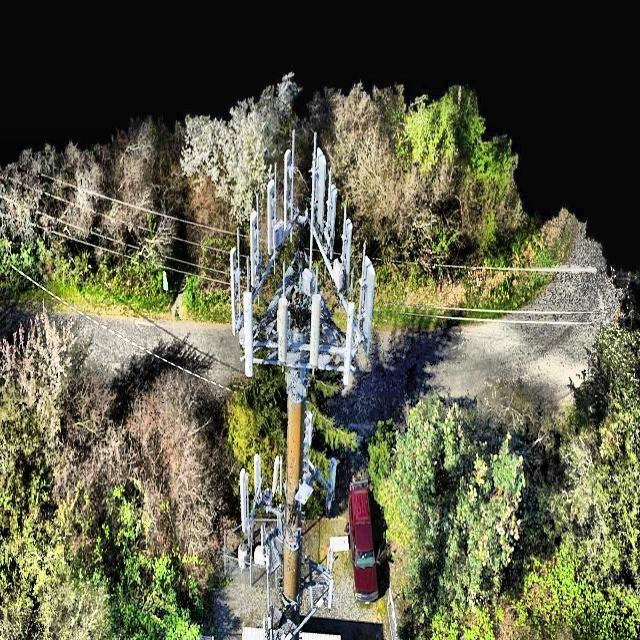antenna: (160, 127, 375, 391), (208, 129, 375, 444), (342, 302, 354, 393), (309, 293, 320, 368), (230, 247, 239, 334), (243, 291, 252, 377), (250, 210, 259, 287), (277, 295, 287, 362), (283, 149, 291, 229), (267, 179, 275, 254)
